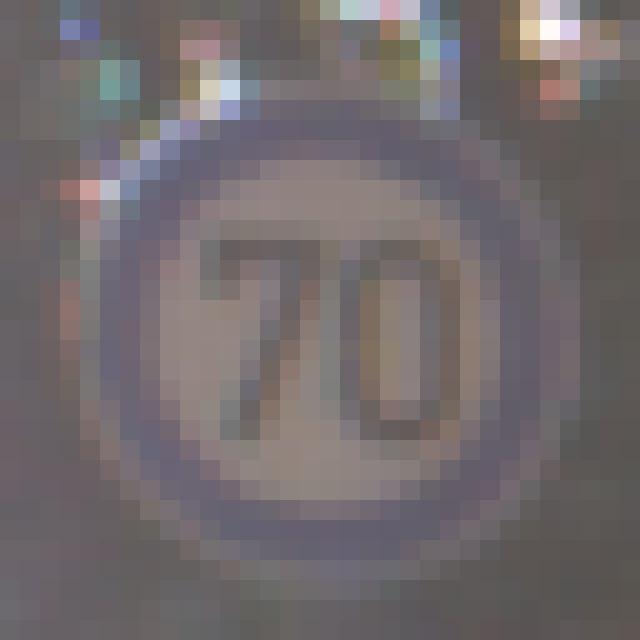SPEED LIMIT 70: (85, 109, 568, 576)
